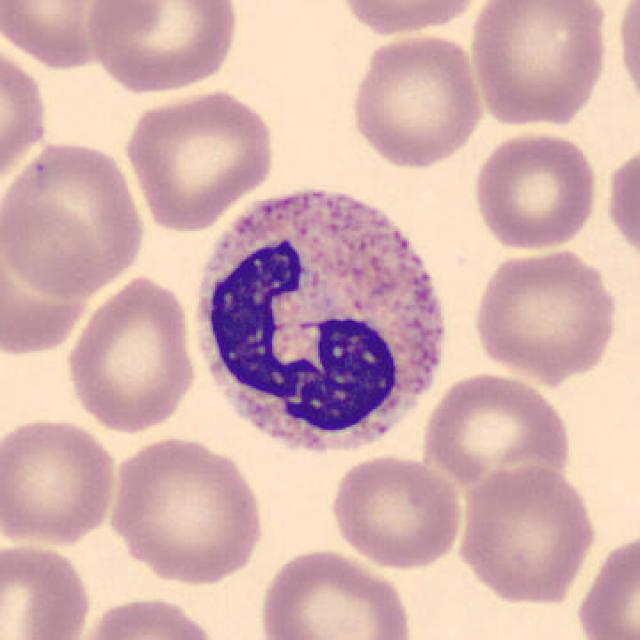Neutrophil: (183, 169, 461, 469)
RBC: (103, 432, 269, 587), (0, 135, 149, 299), (121, 84, 279, 232), (62, 272, 201, 436), (469, 243, 624, 384), (453, 460, 599, 608), (347, 30, 487, 171), (418, 368, 574, 494), (0, 189, 109, 365), (464, 0, 612, 129), (326, 452, 468, 572), (0, 412, 123, 548), (469, 129, 601, 254), (254, 545, 416, 640), (84, 0, 242, 97), (0, 0, 140, 70), (0, 537, 94, 640), (0, 33, 52, 203), (572, 527, 640, 640), (71, 592, 221, 640), (331, 0, 494, 37), (602, 137, 640, 266), (613, 0, 640, 115)
